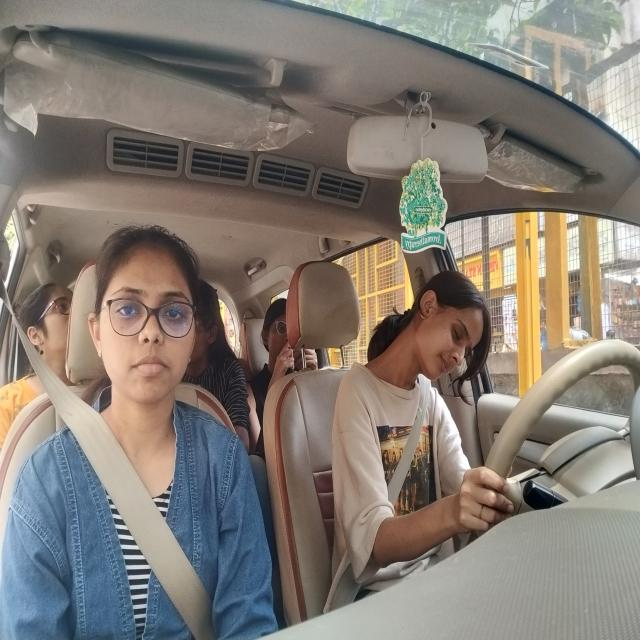drowsy: (388, 279, 501, 386)
person: (86, 270, 200, 407), (22, 284, 72, 368), (263, 301, 299, 372), (201, 285, 225, 370)
